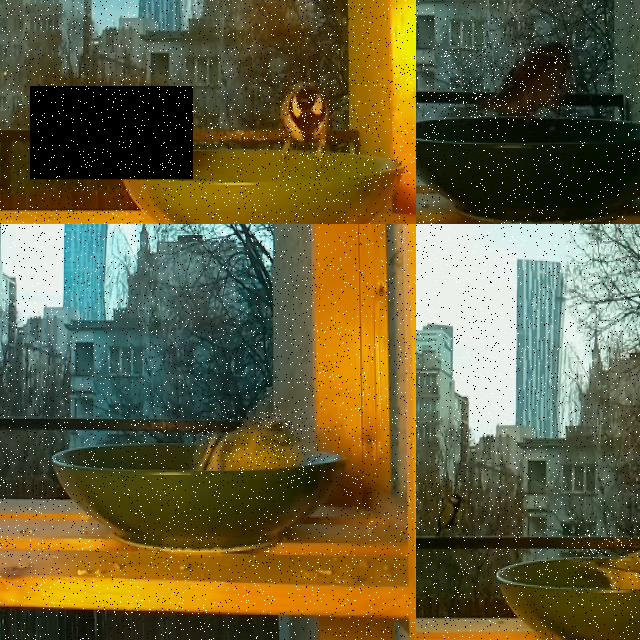Bogatka: (278, 78, 335, 173)
Modraszka: (192, 416, 315, 470), (572, 527, 640, 593)
Wrobel: (30, 86, 193, 179), (444, 42, 575, 122)
